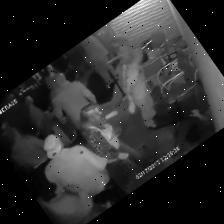person: (45, 135, 125, 203), (81, 104, 141, 164), (2, 123, 50, 193), (117, 47, 156, 127), (41, 184, 106, 223), (52, 73, 97, 129), (79, 35, 113, 86), (25, 96, 55, 138), (44, 64, 59, 97)
